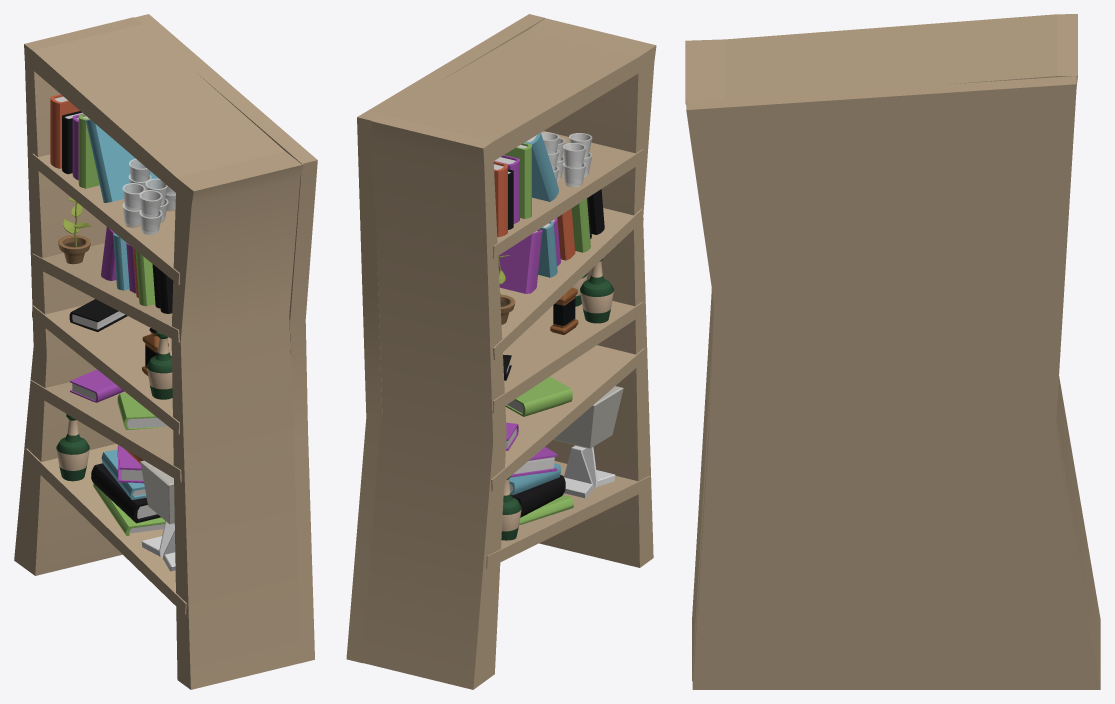
Rendered from 04wonkykast_met_spullentsj_nieuwestijl.fbx.
The picture shows the model from 3 angles, left to right: view 1: azimuth 30°, elevation 25°; view 2: azimuth 150°, elevation 25°; view 3: azimuth 270°, elevation 25°; orthographic projection. The views are drawn at different scales.
Parts seen in each view (by area): view 1: pCube604; view 2: pCube604; view 3: pCube604.
Part boxes in pixels (x1,y1,x2,y2): pCube604: (14,14,317,689); pCube604: (346,14,656,689); pCube604: (685,14,1100,689).
Bounding box in the file's own units: 0.9361 × 3.73 × 2.32.
